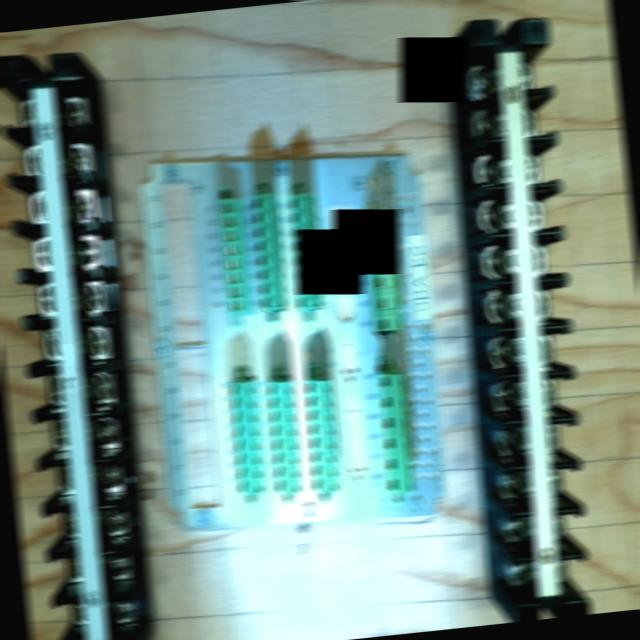Flathead_Block: (468, 16, 592, 621)
Phillips_Block: (0, 49, 140, 640)
Terminal_1: (365, 208, 405, 331), (378, 371, 416, 495)
Terminal_2: (287, 192, 324, 309), (251, 192, 288, 309), (229, 379, 266, 496), (266, 379, 303, 494), (304, 377, 340, 494)
